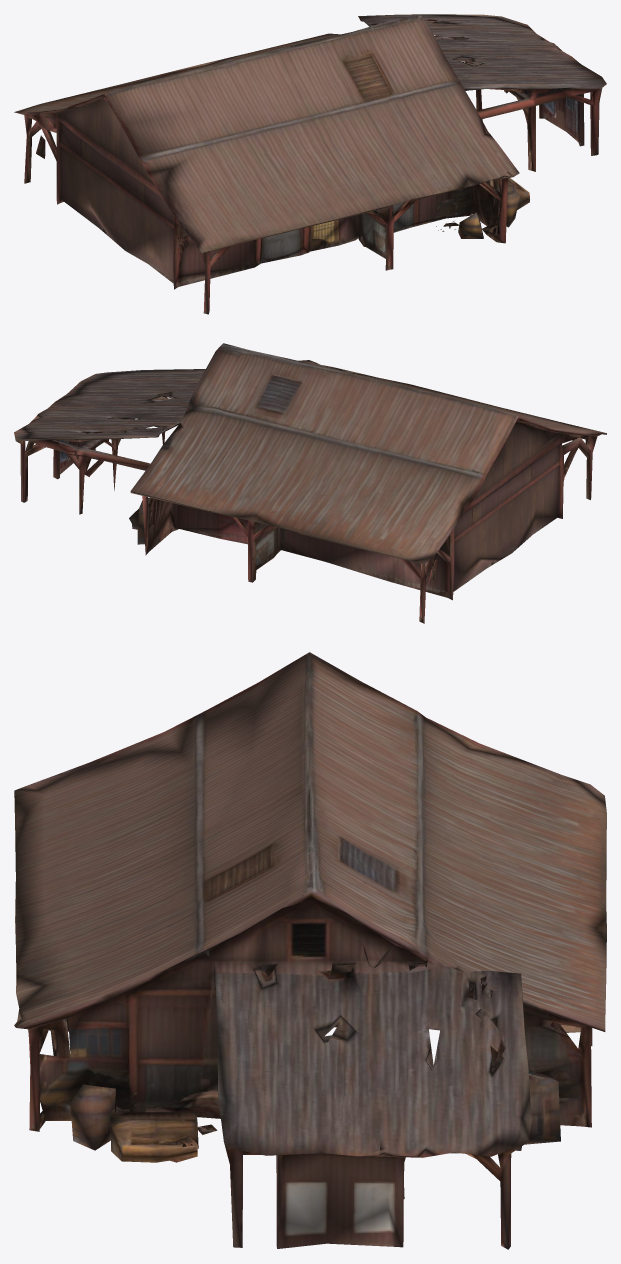
Rendered from A_wild_west_theme_war_1104084905_texture.glb.
3 renders of one model, top to bottom at view 1: azimuth 30°, elevation 25°; view 2: azimuth 150°, elevation 25°; view 3: azimuth 270°, elevation 25°, orthographic. The views are drawn at different scales.
Parts seen in each view (by area): view 1: Mesh1; view 2: Mesh1; view 3: Mesh1.
Boxes of the visible parts, box(x1,y1,x2,y2) form: Mesh1: box(14, 14, 606, 314); Mesh1: box(14, 343, 606, 623); Mesh1: box(14, 652, 606, 1249).
Bounding box in the file's own units: 1.99 × 0.6335 × 1.37.
1 material, 1 textured.
